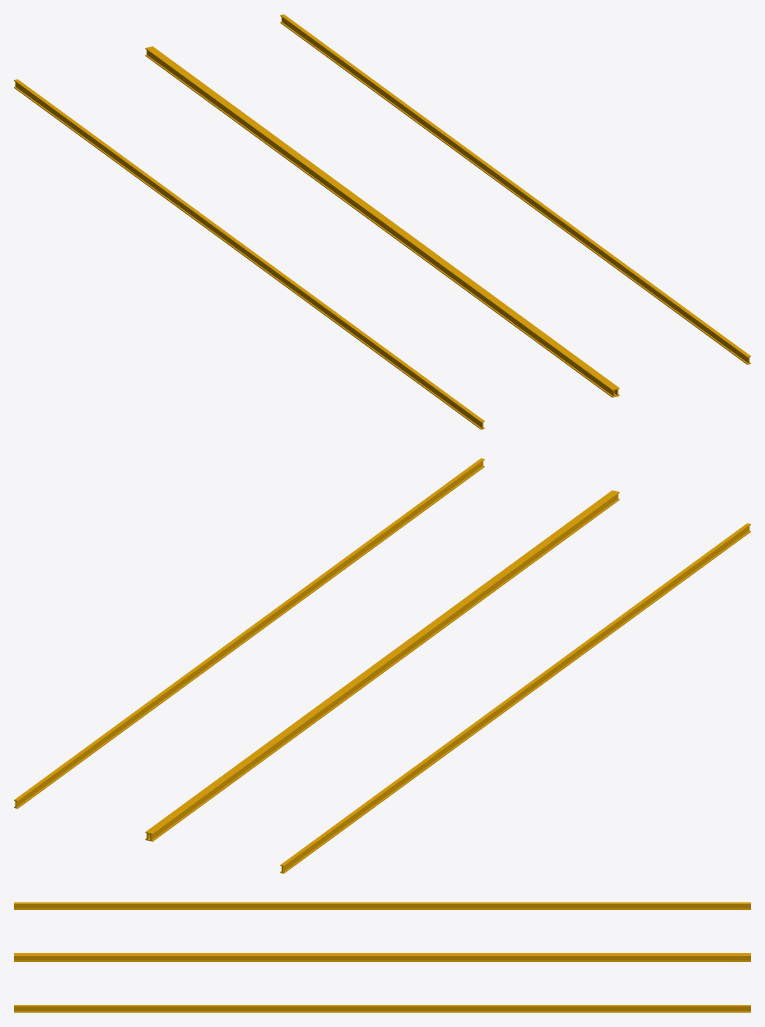
Rendered from DoubleCraneBridge_35ft.fbx.
The picture shows the model from 3 angles, top to bottom: view 1: azimuth 30°, elevation 25°; view 2: azimuth 150°, elevation 25°; view 3: azimuth 270°, elevation 25°; orthographic projection. The views are drawn at different scales.
Visible parts, largest first — view 1: CraneBridgeDouble_35ft; view 2: CraneBridgeDouble_35ft; view 3: CraneBridgeDouble_35ft.
Part boxes in pixels (x1=…): CraneBridgeDouble_35ft: x1=14, y1=14, x2=750, y2=429; CraneBridgeDouble_35ft: x1=14, y1=458, x2=750, y2=873; CraneBridgeDouble_35ft: x1=14, y1=902, x2=750, y2=1012.
Size of the model in its own units: 2195 by 60.97 by 6577.
